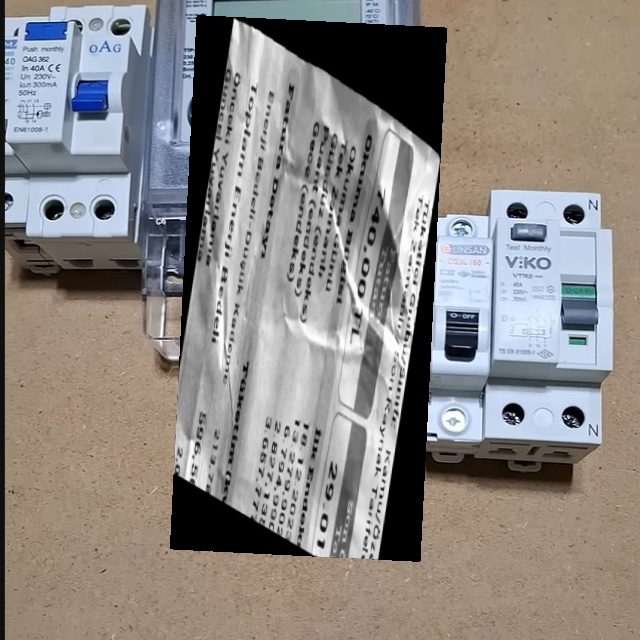electricity-bill: (170, 14, 446, 562)
